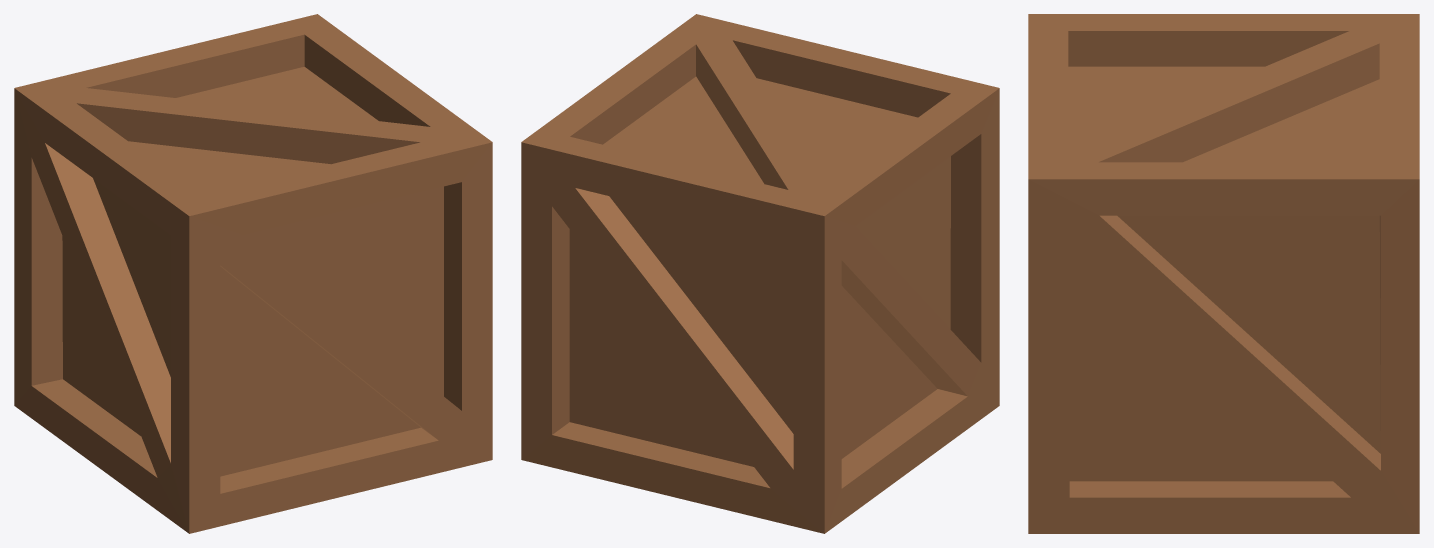
Rendered from crate.fbx.
The picture shows the model from 3 angles, left to right: view 1: azimuth 30°, elevation 25°; view 2: azimuth 150°, elevation 25°; view 3: azimuth 270°, elevation 25°; orthographic projection. The views are drawn at different scales.
Parts seen in each view (by area): view 1: CAISSE; view 2: CAISSE; view 3: CAISSE.
Boxes of the visible parts, x1=… form: CAISSE: x1=14, y1=14, x2=492, y2=533; CAISSE: x1=521, y1=14, x2=999, y2=533; CAISSE: x1=1028, y1=14, x2=1419, y2=533.
Size of the model in its own units: 21 by 21 by 20.99.
